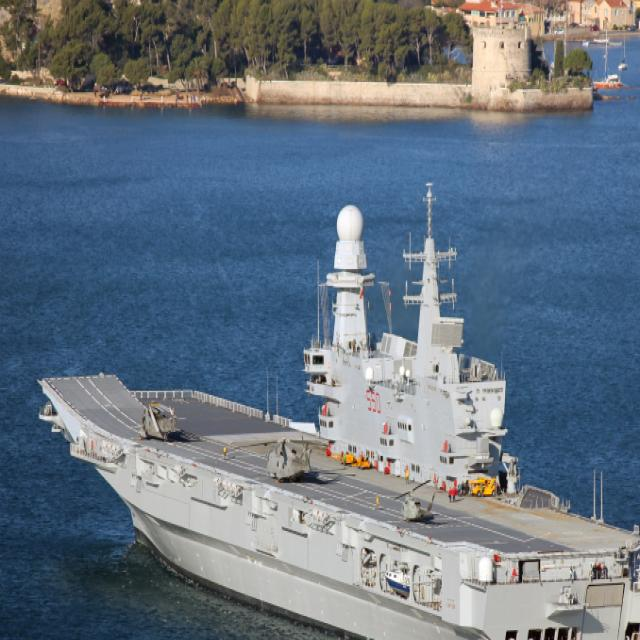Portanaves: (36, 175, 640, 640)
